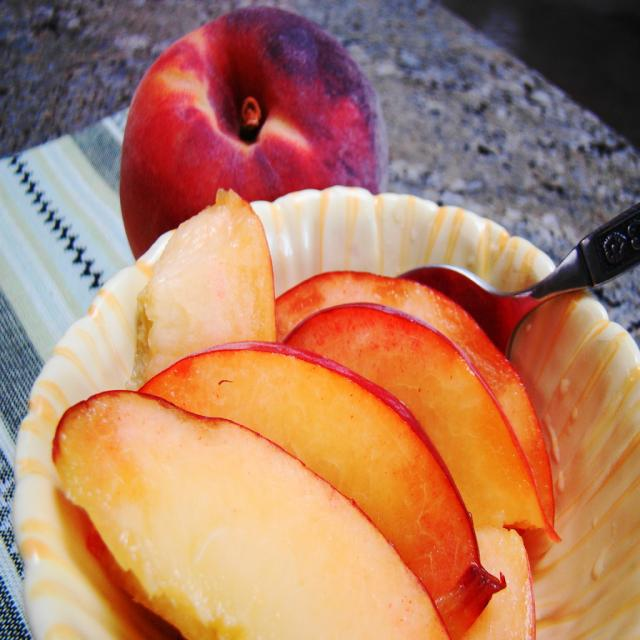Peach: (50, 186, 562, 640), (53, 190, 557, 640), (119, 2, 390, 261)
